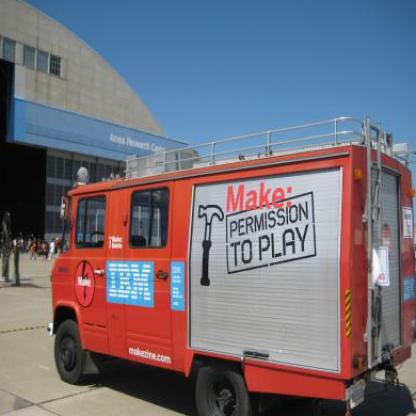truck: (51, 115, 416, 416)
